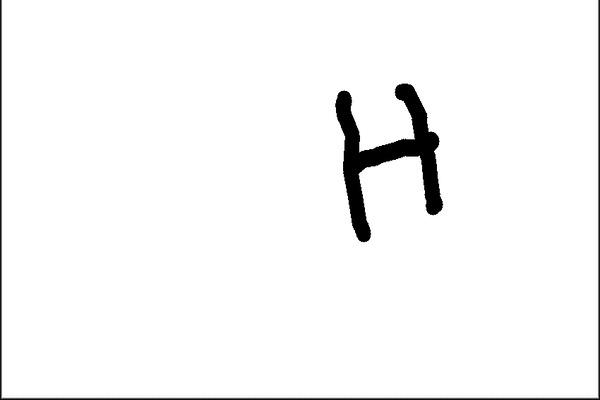H: (325, 78, 446, 245)
